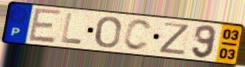9: (191, 24, 218, 60)
C: (122, 19, 154, 53)
E: (27, 7, 64, 45)
L: (60, 11, 84, 46)
O: (94, 16, 123, 49)
Z: (157, 21, 191, 56)
